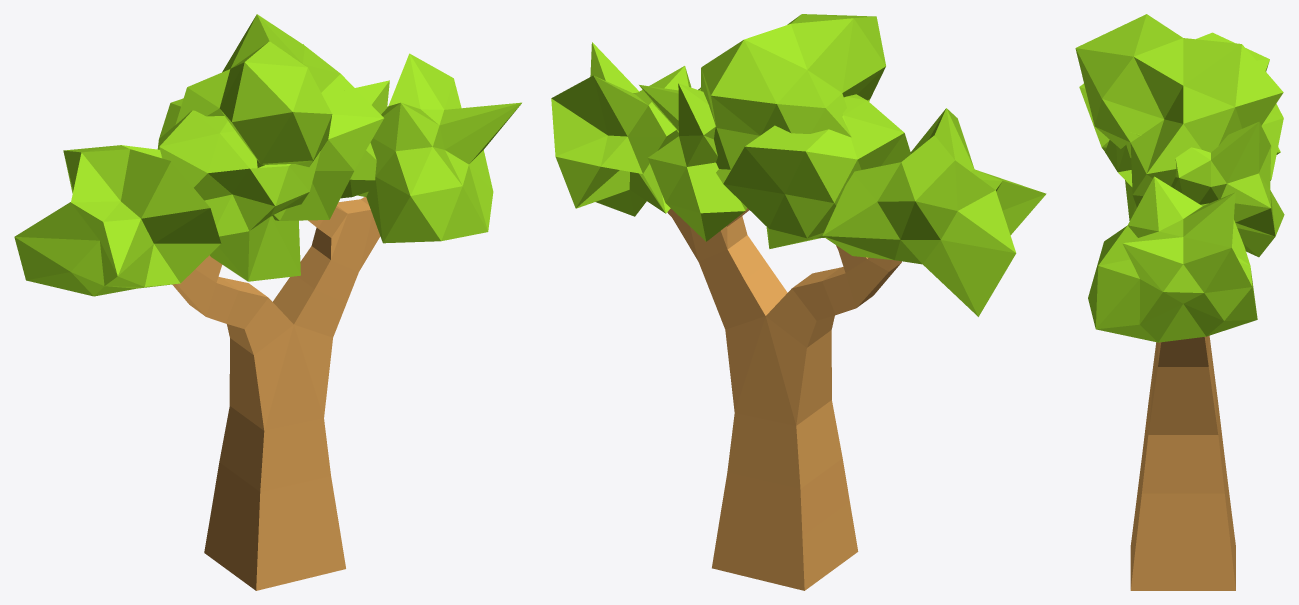
Rendered from tree_2.fbx.
3 renders of one model, left to right at view 1: azimuth 30°, elevation 25°; view 2: azimuth 150°, elevation 25°; view 3: azimuth 270°, elevation 25°, orthographic. The views are drawn at different scales.
Visible parts, largest first — view 1: ICO球.003, 平面; view 2: ICO球.003, 平面; view 3: ICO球.003, 平面.
Boxes of the visible parts, x1,y1,x2,y2 form: ICO球.003: (14, 14, 521, 296); 平面: (172, 197, 380, 590); ICO球.003: (551, 14, 1046, 316); 平面: (667, 208, 901, 590); ICO球.003: (1075, 14, 1284, 342); 平面: (1130, 335, 1235, 590).
Size of the model in its own units: 205 by 223 by 79.83.
